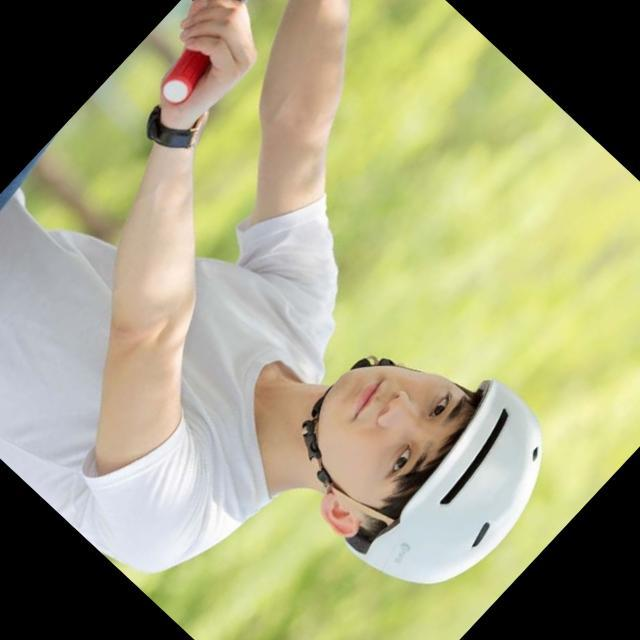WITH_HELMET: (260, 291, 590, 622)
